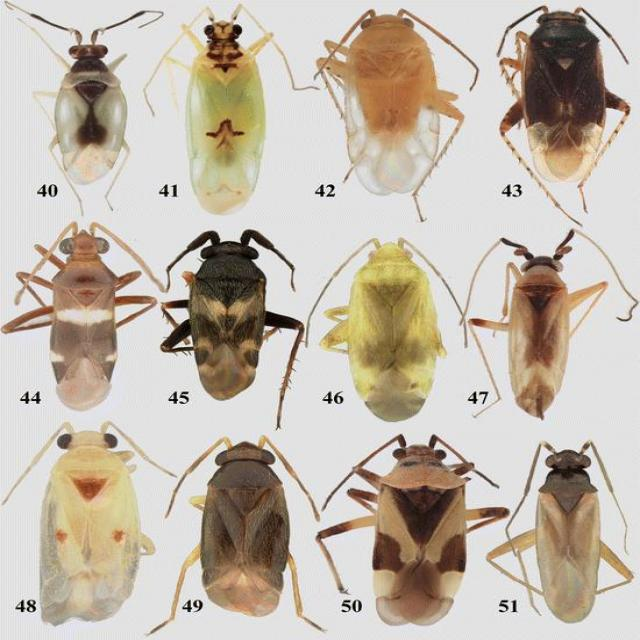Miridae-Adult-: (314, 423, 524, 634), (152, 415, 341, 638), (140, 0, 317, 214), (306, 3, 474, 228), (6, 418, 182, 627), (484, 2, 637, 219), (6, 0, 162, 210), (312, 228, 470, 428), (156, 220, 307, 429), (7, 220, 166, 418), (486, 222, 637, 425), (492, 434, 636, 623)
